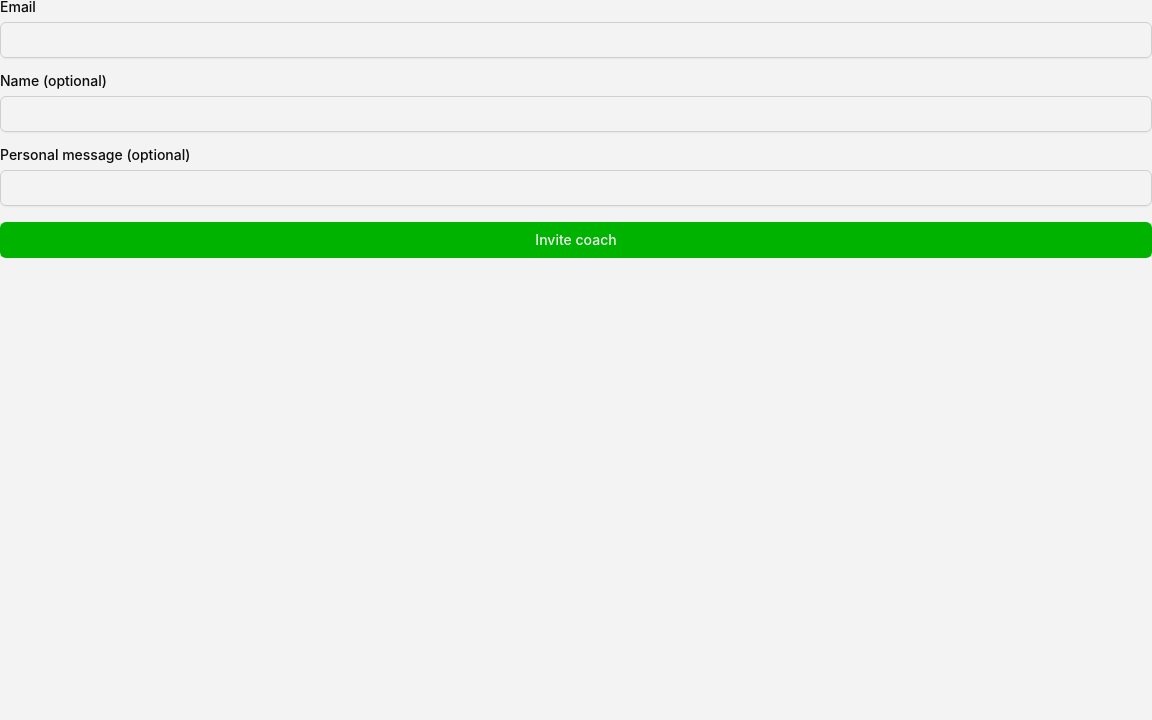
Test: InviteCoachForm › renders a 409 as an offer to resend or revoke the existing invitation
In the field labelled "Email": (576, 40) [0,22,1151,58], type "dup@example.org"
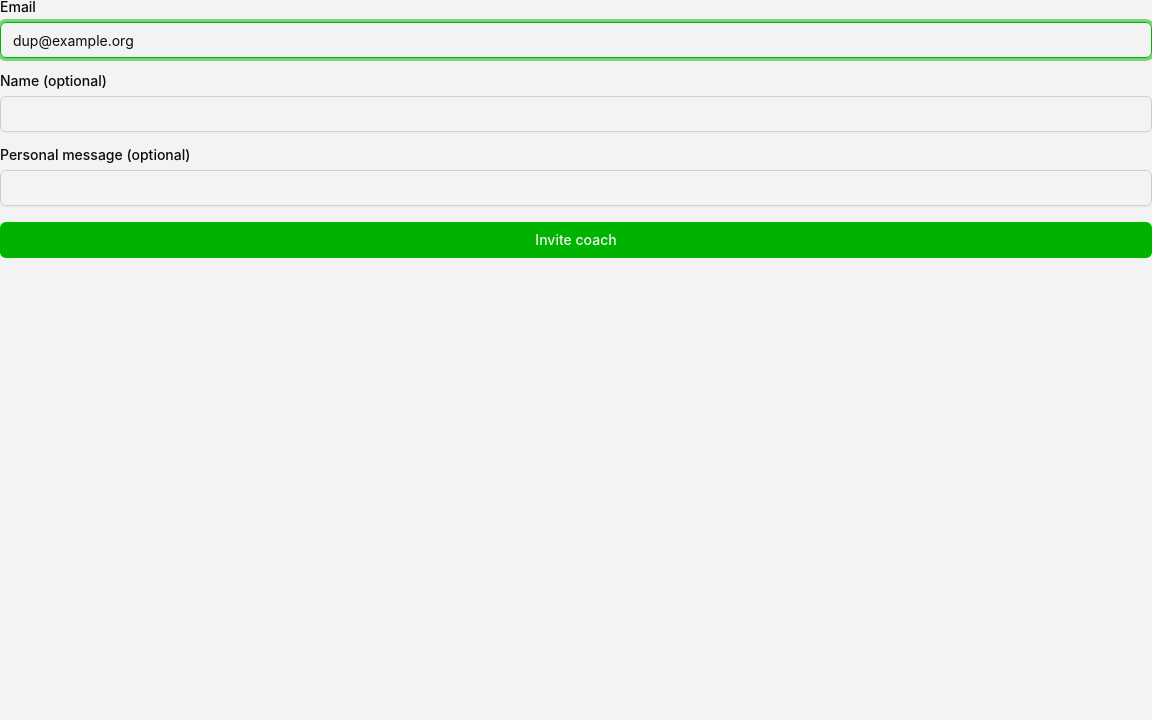
Click the button "Invite coach": click(576, 240) [0,222,1151,258]
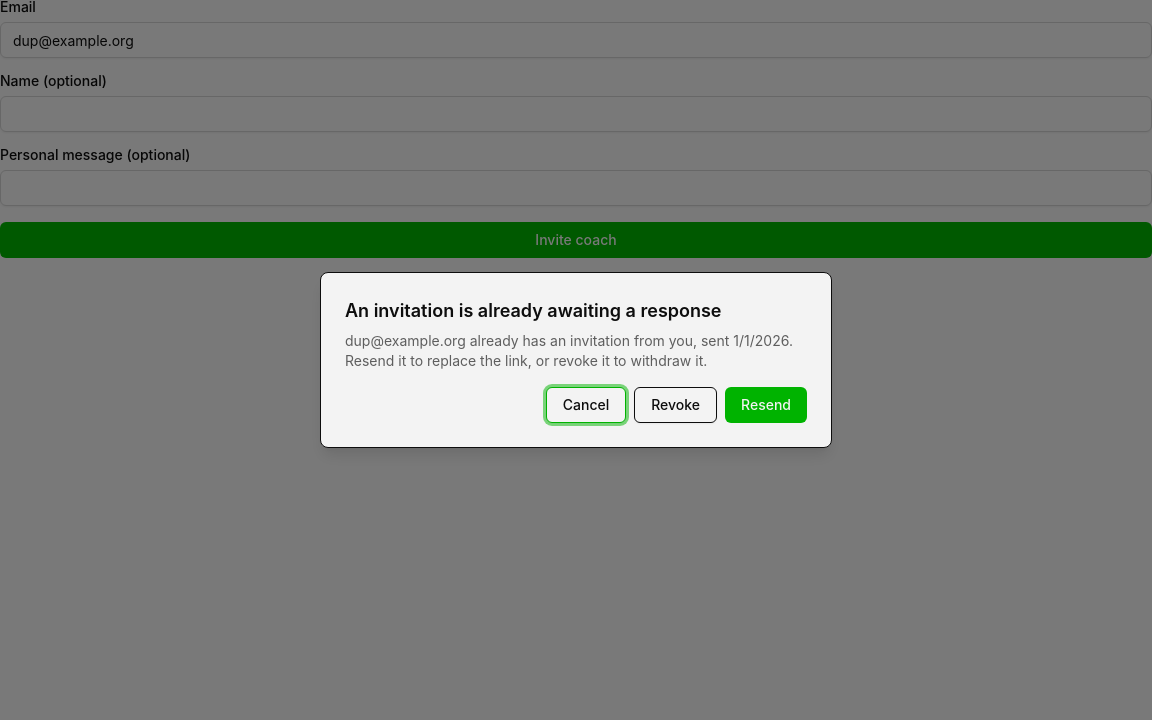
Now the text "already has an invitation from you" is shown, box [466,332,729,349]
Now the button "Resend" is shown, box [725,387,807,423]
Now the button "Revoke" is shown, box [634,387,717,423]
